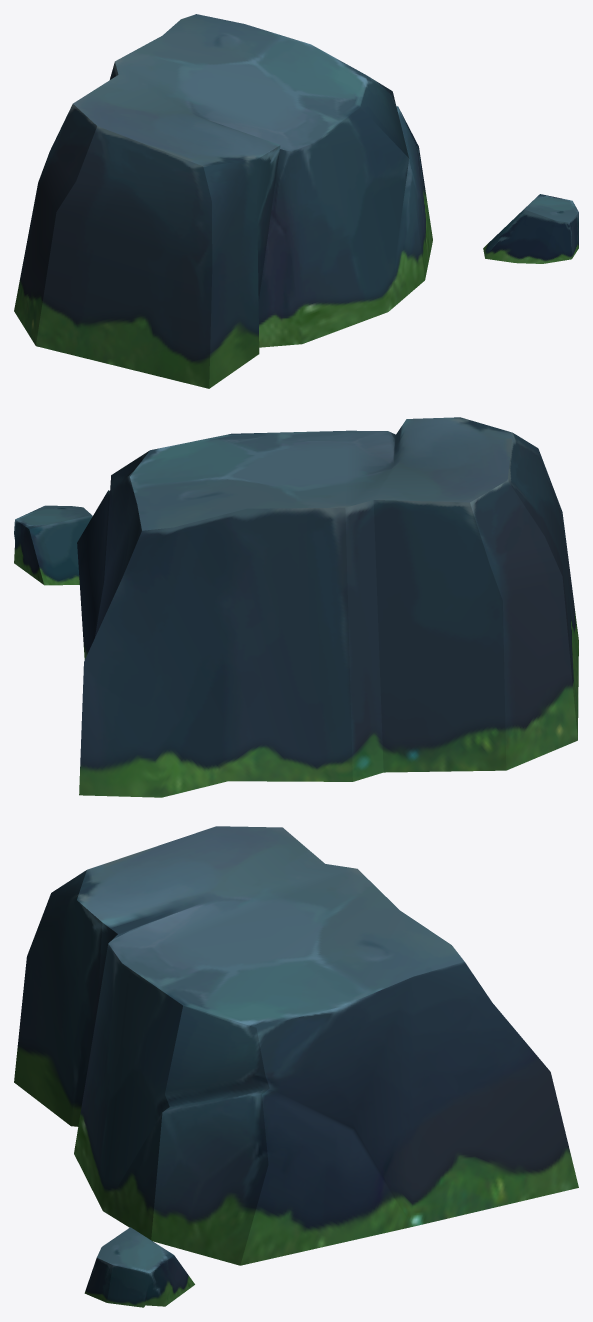
File: shitou_3.FBX
3 renders of one model, top to bottom at view 1: azimuth 30°, elevation 25°; view 2: azimuth 150°, elevation 25°; view 3: azimuth 270°, elevation 25°, orthographic. The views are drawn at different scales.
Visible parts, largest first — view 1: shitou_3; view 2: shitou_3; view 3: shitou_3.
Part boxes in pixels (x1,y1,x2,y2): shitou_3: (14,14,578,388); shitou_3: (14,417,578,797); shitou_3: (14,826,578,1307).
Size of the model in its own units: 188 by 74.89 by 155.
